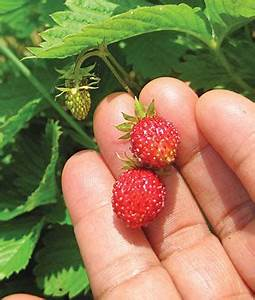Fresa: (109, 163, 175, 233), (121, 107, 184, 172)
